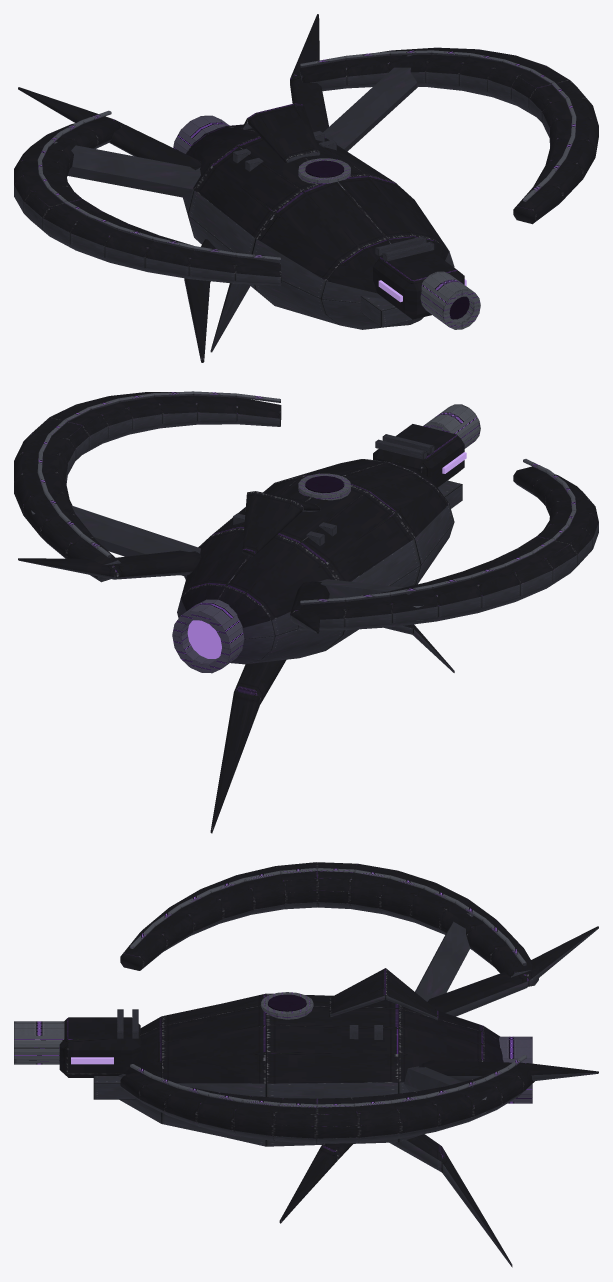
Rendered from pioneer-eris-l09-laser.glb.
3 renders of one model, top to bottom at view 1: azimuth 30°, elevation 25°; view 2: azimuth 150°, elevation 25°; view 3: azimuth 270°, elevation 25°, orthographic.
Parts seen in each view (by area): view 1: Drone; view 2: Drone; view 3: Drone.
Part boxes in pixels (bbox=[...]): Drone: bbox=[14, 14, 598, 362]; Drone: bbox=[14, 391, 598, 833]; Drone: bbox=[14, 862, 598, 1267].
Size of the model in its own units: 1.75 by 0.9071 by 1.66.
Materials: 3 (3 with a texture image).
